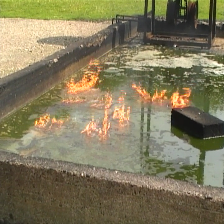fire_h: (66, 59, 101, 94), (62, 89, 113, 108), (82, 108, 110, 140), (132, 82, 167, 102), (171, 87, 191, 108), (35, 114, 67, 127)
fire_l: (113, 105, 130, 127), (118, 91, 127, 103)
